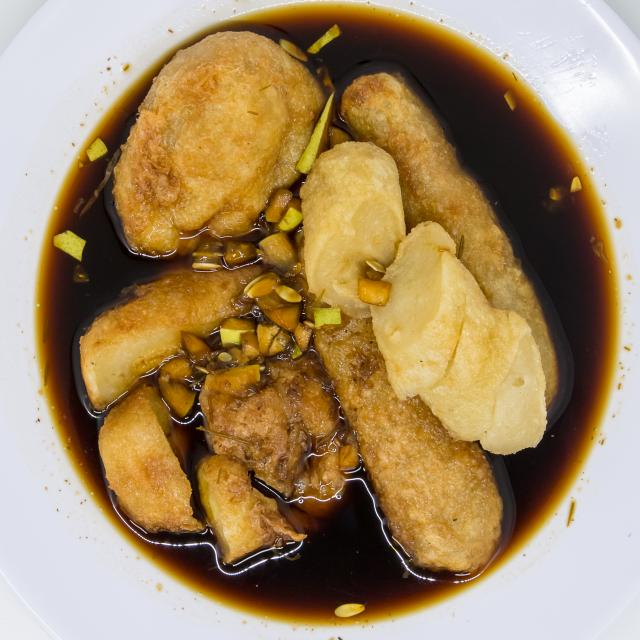Pempek-Palembang: (69, 22, 574, 612)
